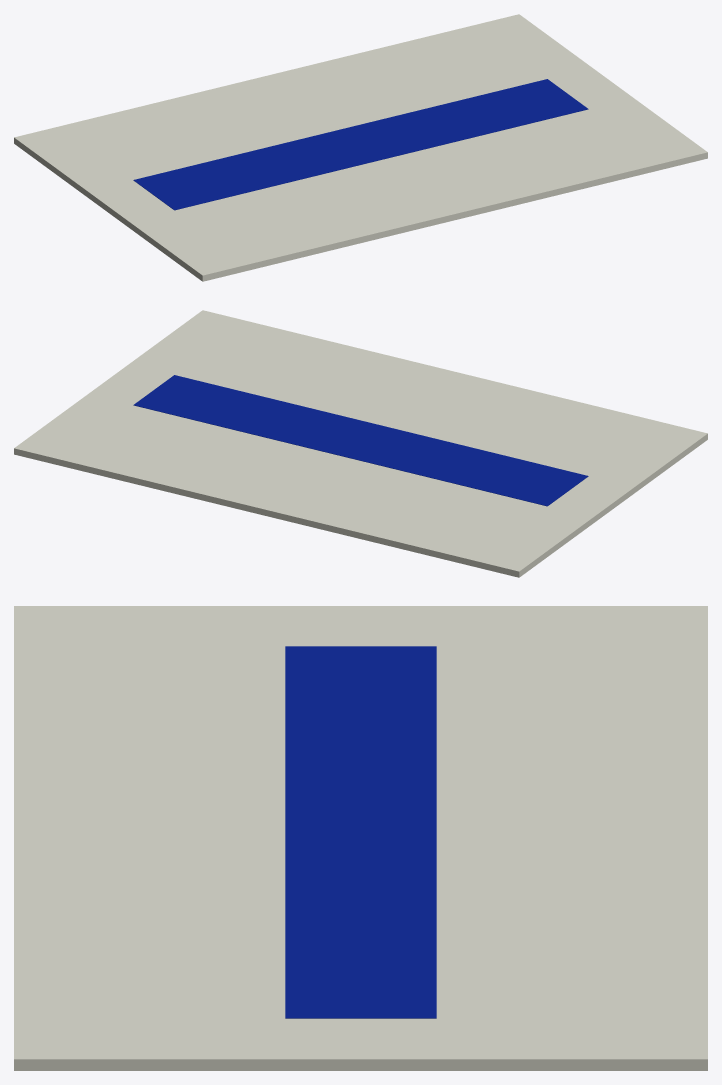
File: gauntlet_lab_entry_card.glb
3 views of the same model, one above another, from view 1: azimuth 30°, elevation 25°; view 2: azimuth 150°, elevation 25°; view 3: azimuth 270°, elevation 25° (orthographic). The views are drawn at different scales.
Visible parts, largest first — view 1: gauntlet_lab_entry_card:keycard; view 2: gauntlet_lab_entry_card:keycard; view 3: gauntlet_lab_entry_card:keycard.
Part boxes in pixels (x1,y1,x2,y2): gauntlet_lab_entry_card:keycard: (14, 14, 707, 281); gauntlet_lab_entry_card:keycard: (14, 310, 707, 577); gauntlet_lab_entry_card:keycard: (14, 606, 707, 1070).
Size of the model in its own units: 0.085 by 0.00105 by 0.055.
